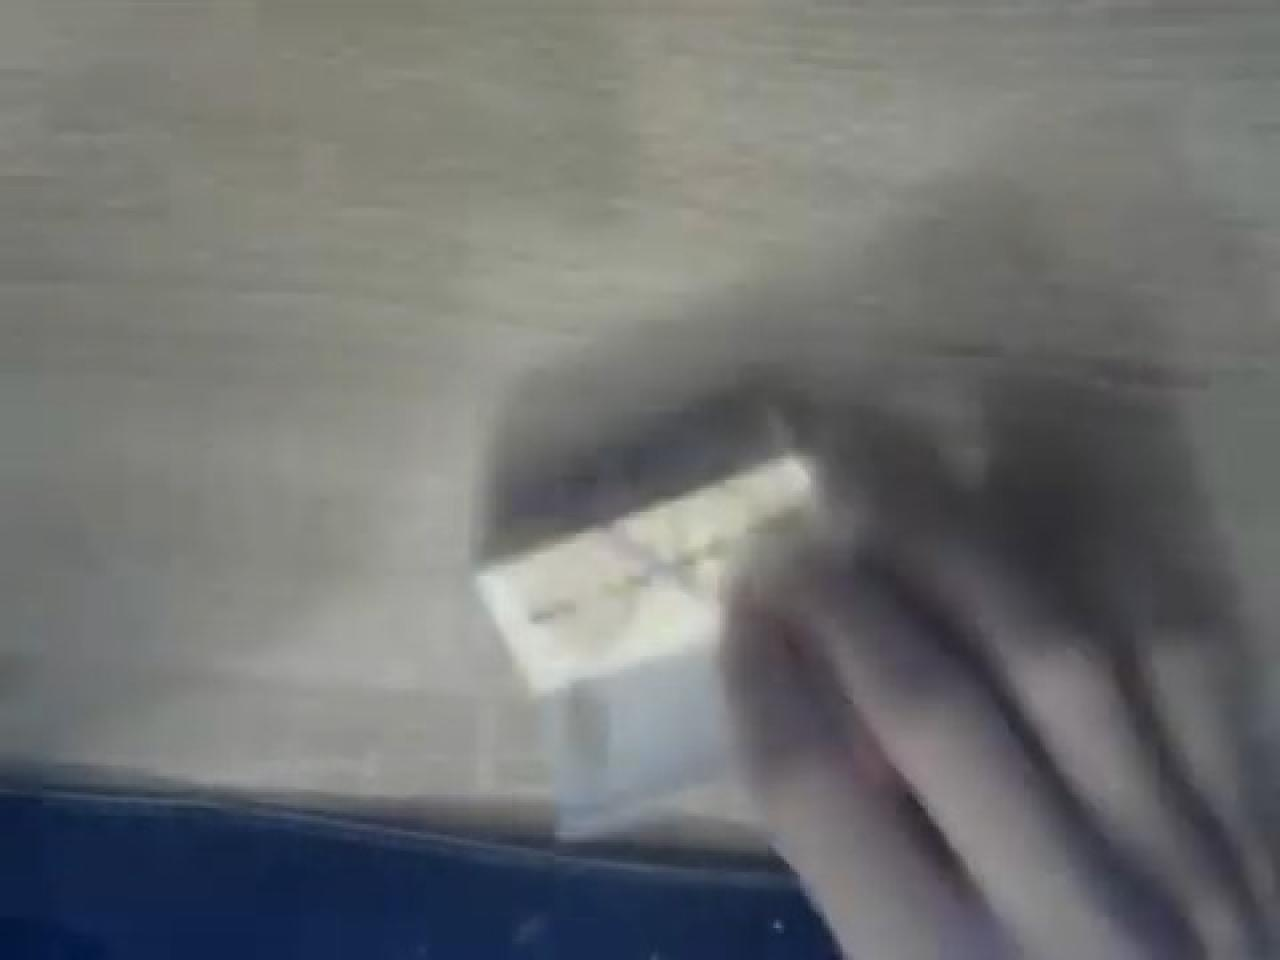10leva: (478, 456, 810, 840), (478, 443, 808, 696)
